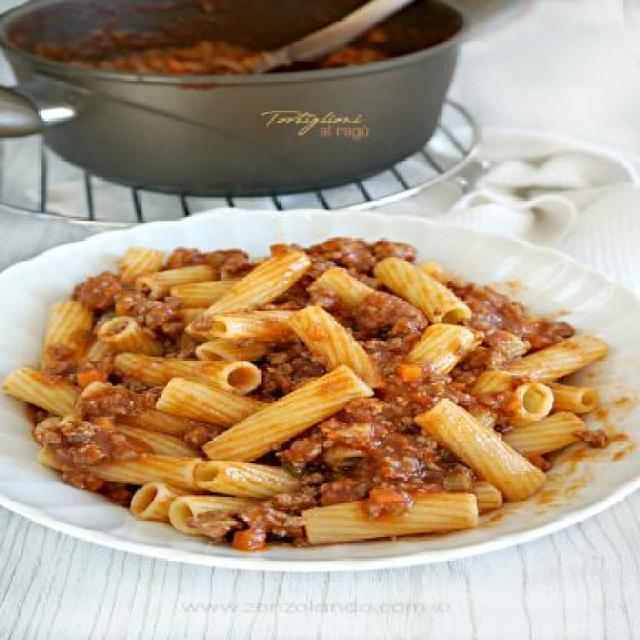Pasta al ragu: (38, 220, 628, 565)
